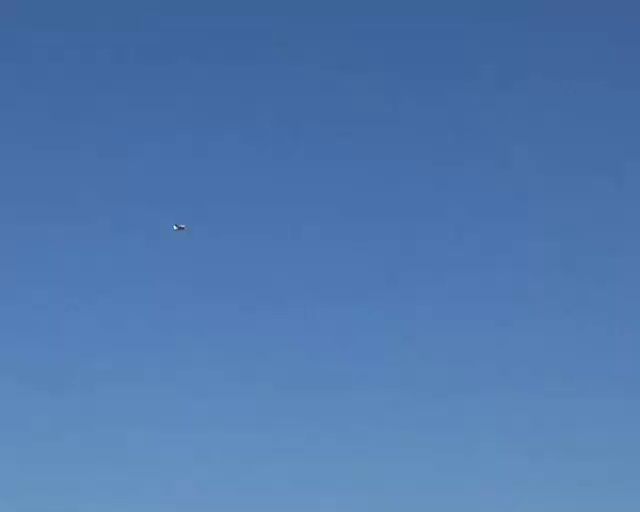AIRPLANE: (173, 223, 186, 231)
